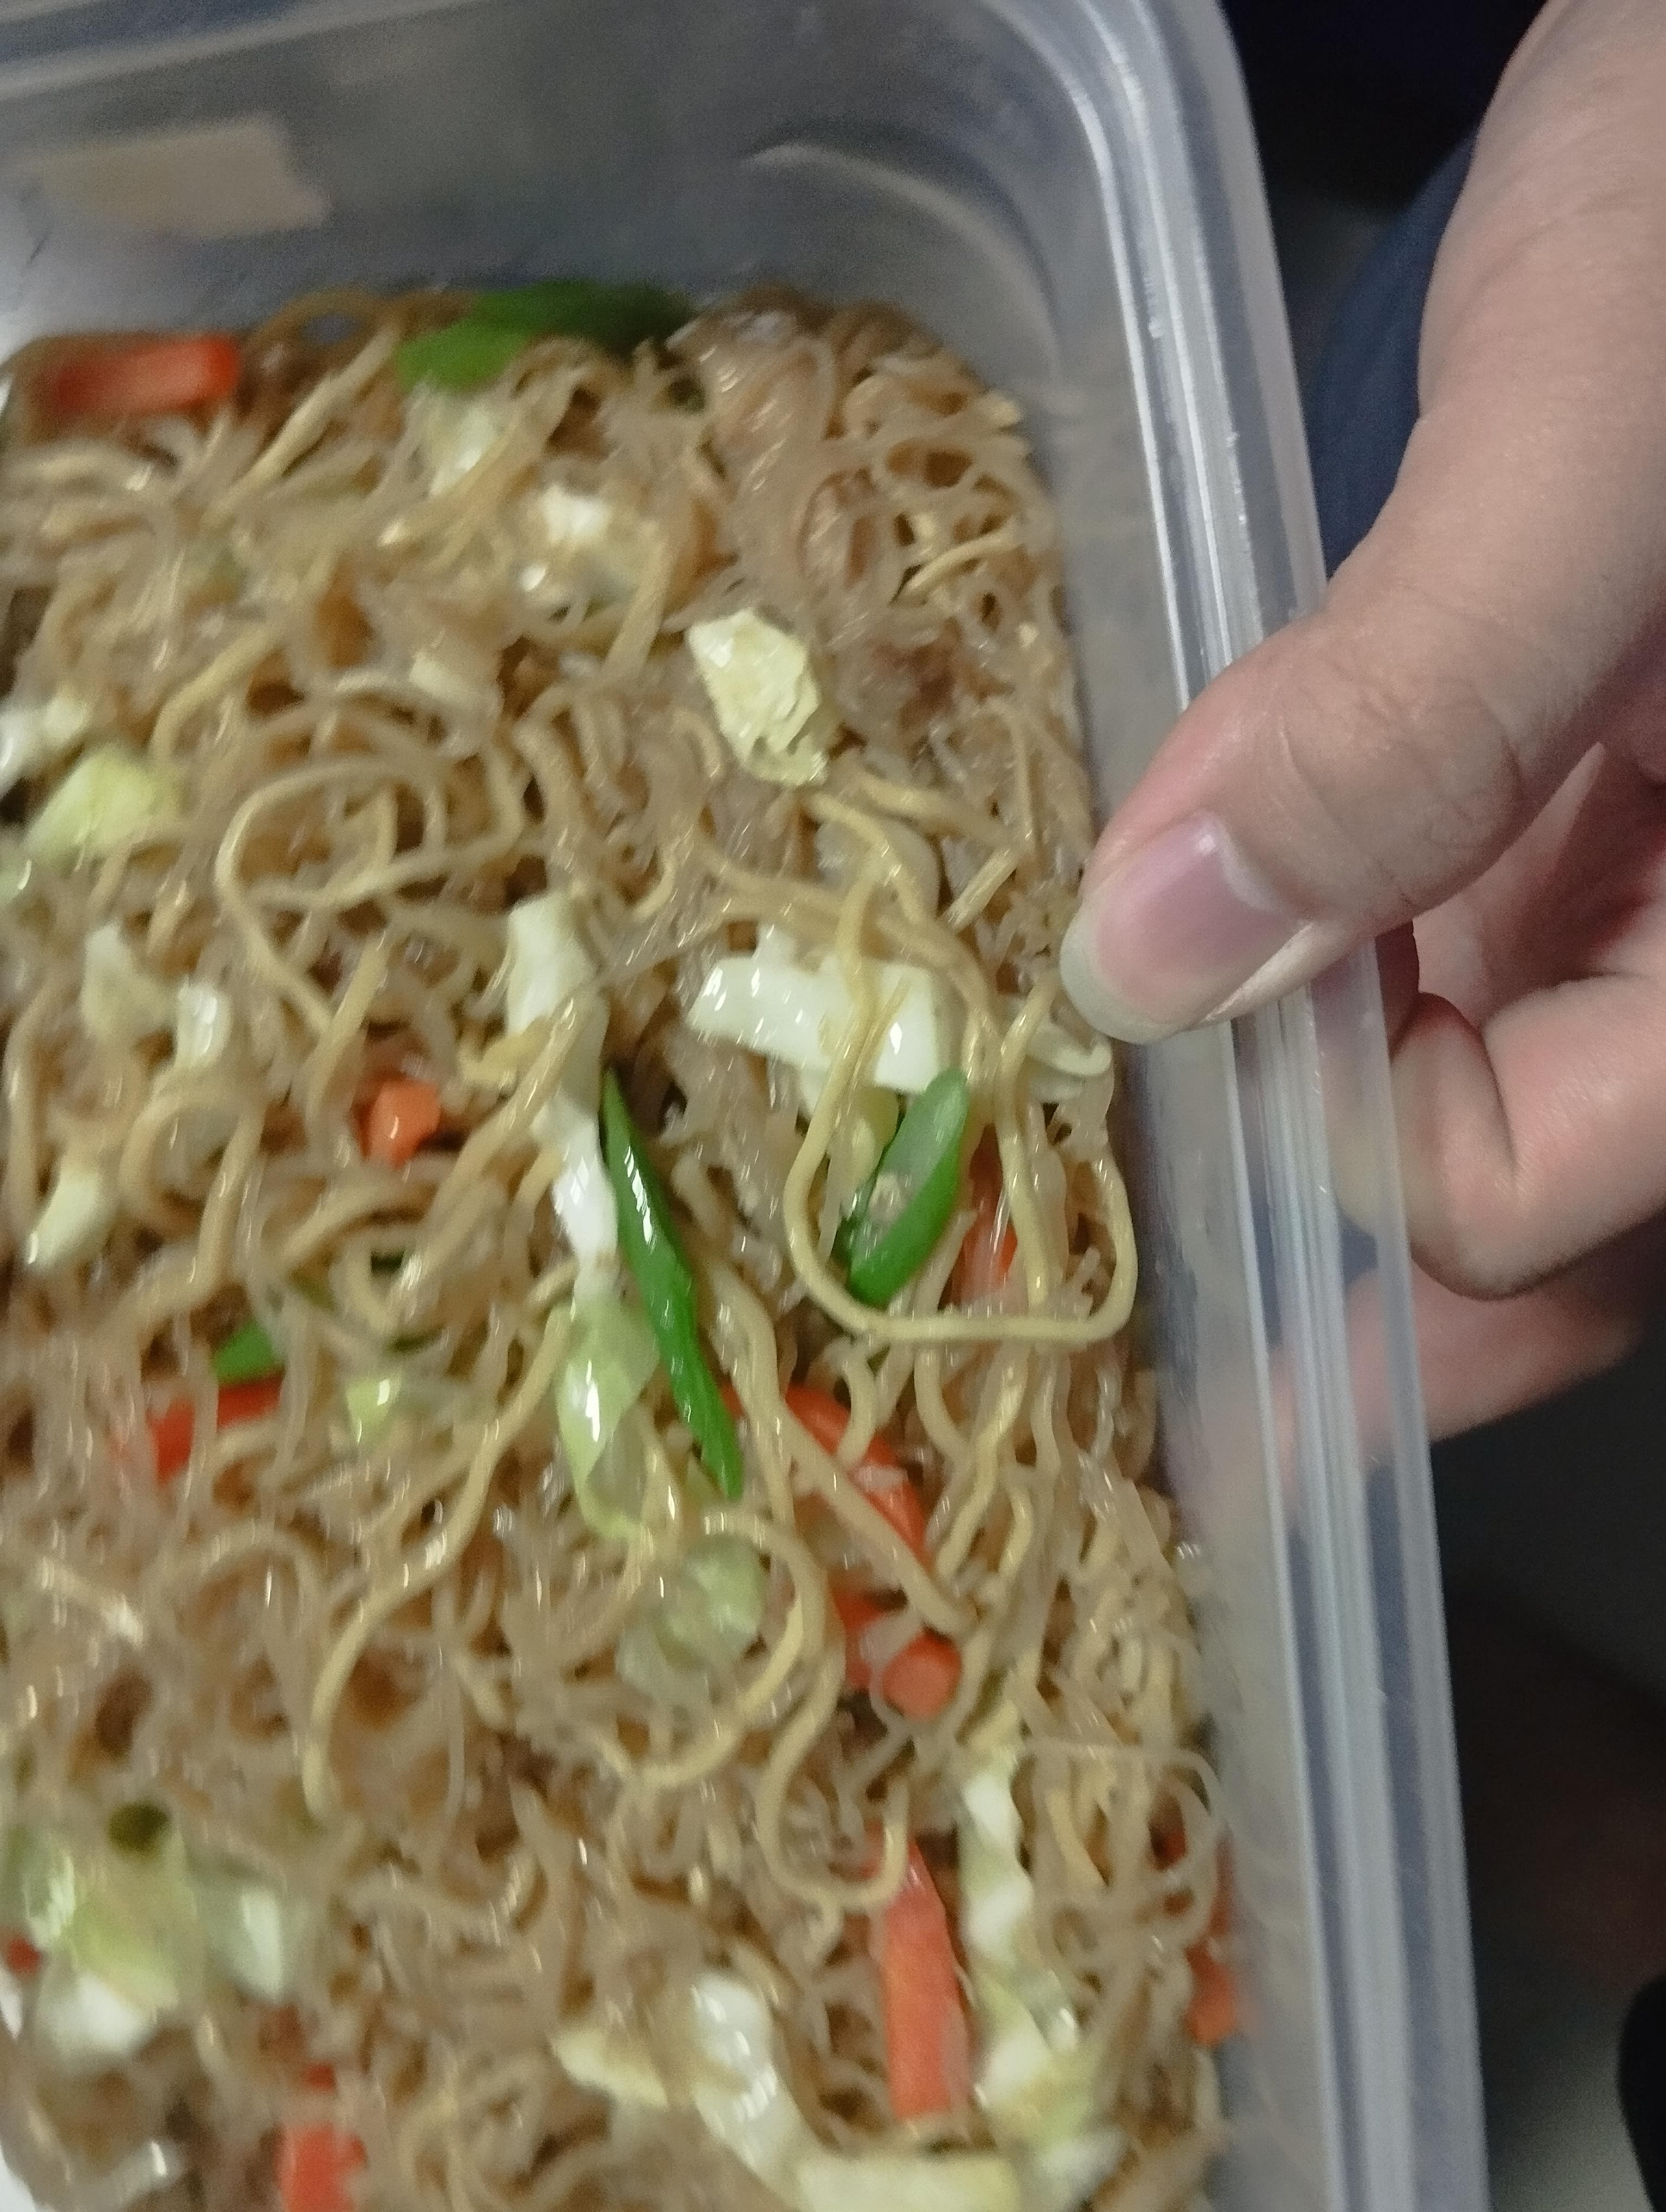pancit bihon: (0, 261, 1236, 2212)
